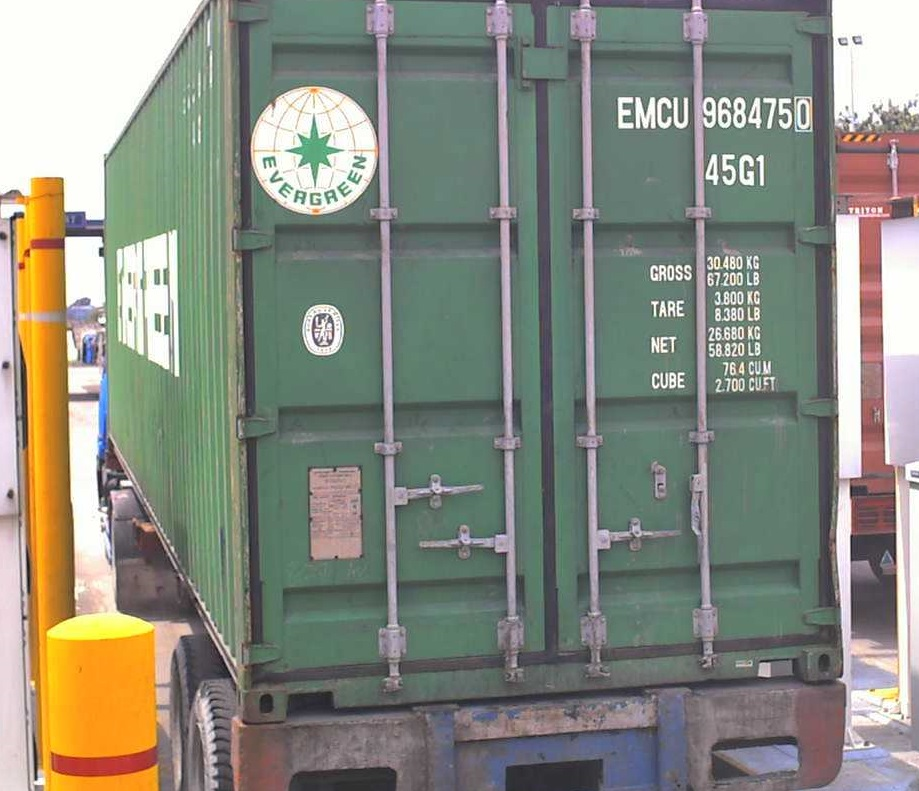container_door: (224, 5, 835, 727)
